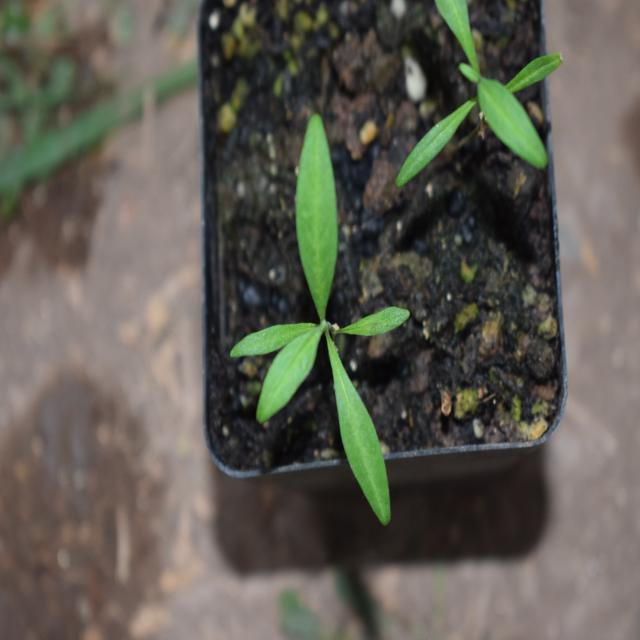white_smart_weed: (238, 126, 438, 533), (372, 0, 572, 203)
